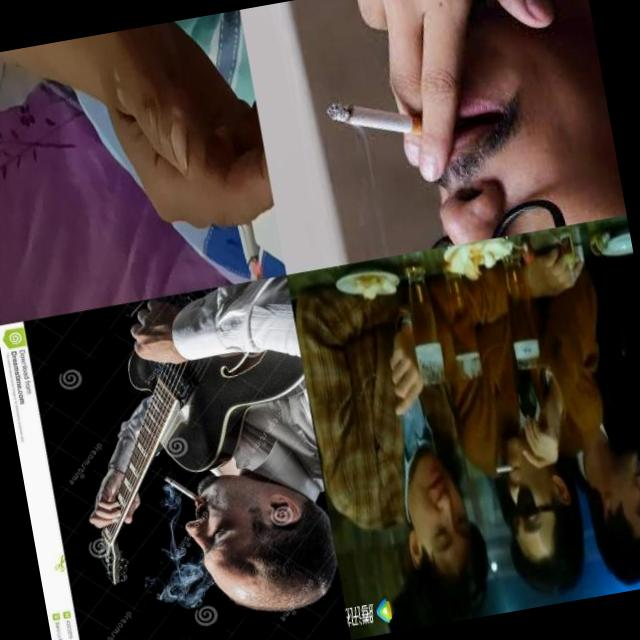cigarette: (324, 83, 452, 158), (214, 120, 268, 282), (162, 466, 210, 516), (494, 464, 515, 474)
